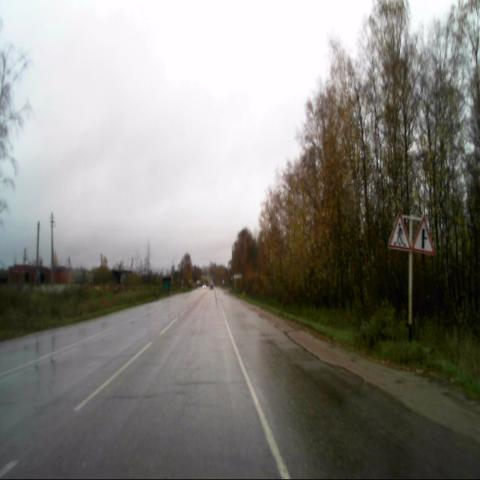1_22: (388, 211, 410, 252)
